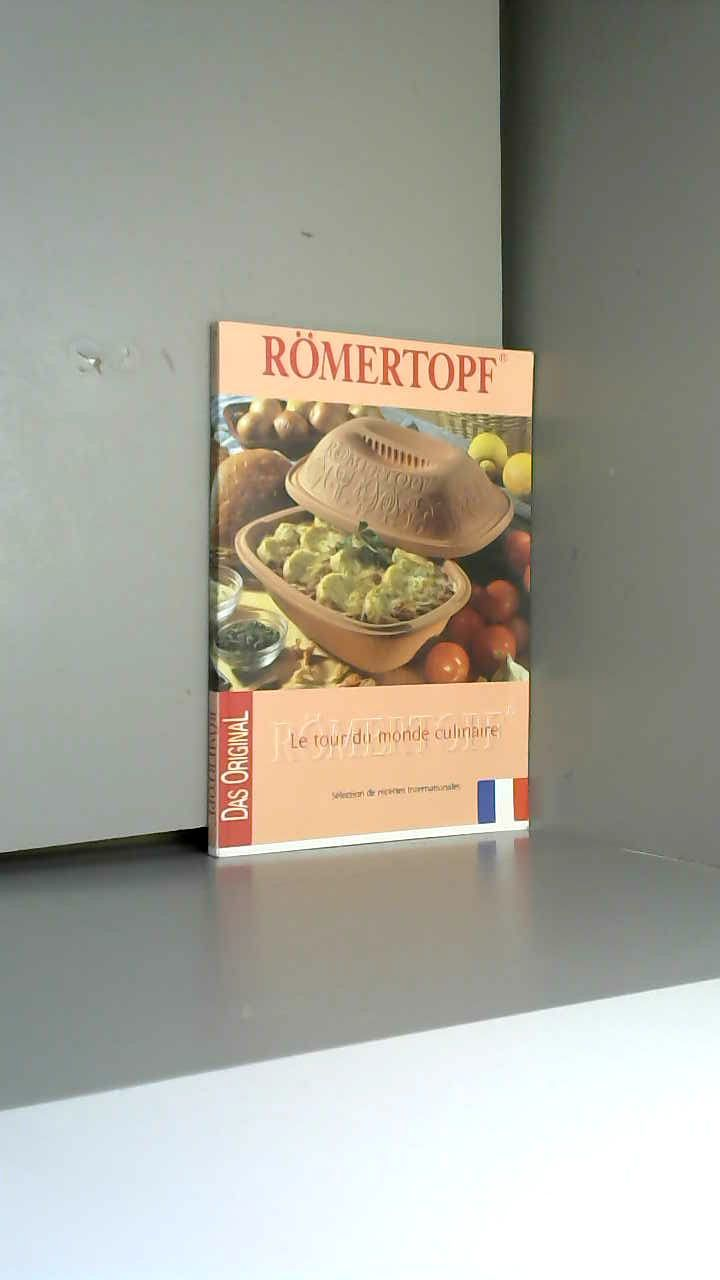book: (176, 285, 566, 905)
